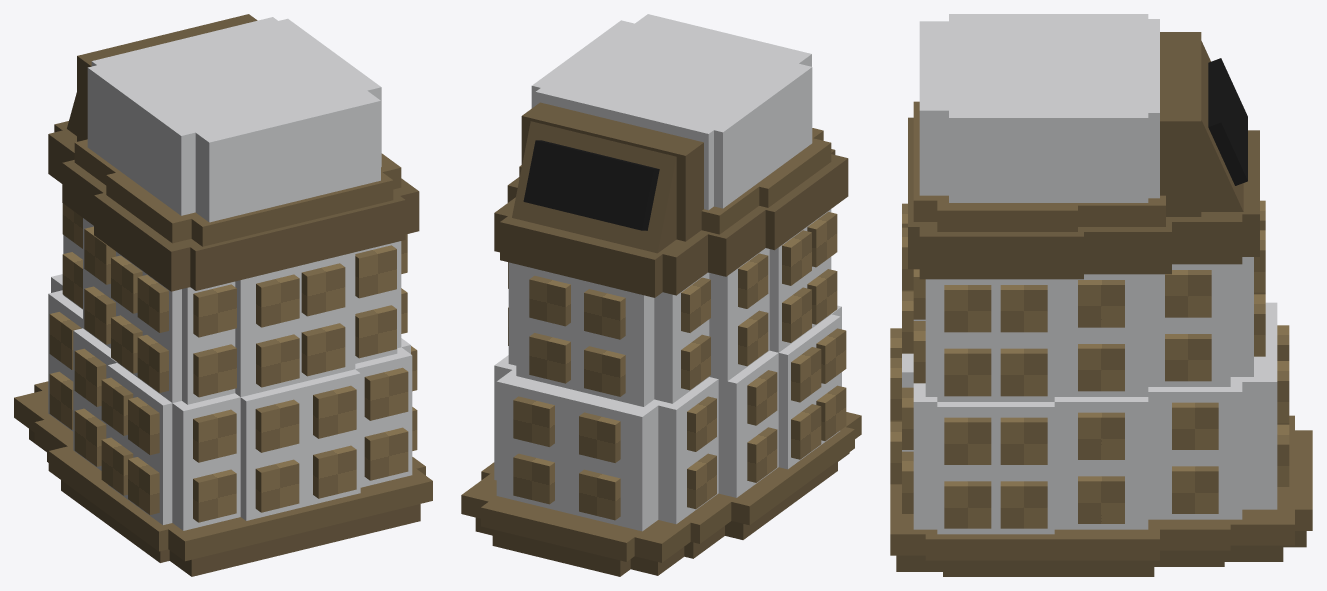
File: swd_base.obj
3 views of the same model, side by side, from view 1: azimuth 30°, elevation 25°; view 2: azimuth 150°, elevation 25°; view 3: azimuth 270°, elevation 25° (orthographic). The views are drawn at different scales.
Parts seen in each view (by area): view 1: gunbox5, gunbox6, gunbox7, skirt15, skirt17, base6, skirt18, brase10, brase9, base7, base2, skirt16 (+44 smaller); view 2: gunbox5, skirt1, gunbox6, gunbox4, skirt2, gunbox3, brase, gunbox7, base, skirt11, skirt7, base3 (+36 smaller); view 3: gunbox5, gunbox6, gunbox7, skirt9, skirt13, skirt5, skirt14, base2, base3, skirt1, brase4, skirt6 (+43 smaller).
Boxes of the visible parts, x1=… form: gunbox5: x1=77, y1=14, x2=401, y2=243; gunbox6: x1=126, y1=47, x2=393, y2=246; gunbox7: x1=91, y1=17, x2=380, y2=222; skirt15: x1=172, y1=347, x2=412, y2=530; skirt17: x1=240, y1=369, x2=360, y2=520; base6: x1=168, y1=466, x2=432, y2=561; skirt18: x1=235, y1=252, x2=355, y2=396; brase10: x1=190, y1=192, x2=405, y2=270; brase9: x1=190, y1=220, x2=405, y2=290; base7: x1=169, y1=504, x2=420, y2=576; base2: x1=48, y1=445, x2=425, y2=551; skirt16: x1=182, y1=242, x2=397, y2=404; gunbox5: x1=521, y1=47, x2=831, y2=241; skirt1: x1=496, y1=367, x2=662, y2=531; gunbox6: x1=569, y1=20, x2=823, y2=181; gunbox4: x1=519, y1=140, x2=771, y2=234; skirt2: x1=516, y1=264, x2=654, y2=406; gunbox3: x1=512, y1=121, x2=676, y2=253; brase: x1=500, y1=213, x2=675, y2=297; gunbox7: x1=535, y1=14, x2=811, y2=210; base: x1=481, y1=502, x2=641, y2=576; skirt11: x1=718, y1=350, x2=778, y2=497; skirt7: x1=658, y1=377, x2=718, y2=524; base3: x1=461, y1=461, x2=837, y2=562; gunbox5: x1=937, y1=14, x2=1201, y2=231; gunbox6: x1=913, y1=14, x2=1066, y2=221; gunbox7: x1=919, y1=19, x2=1159, y2=198; skirt9: x1=1148, y1=382, x2=1242, y2=519; skirt13: x1=1054, y1=397, x2=1148, y2=529; skirt5: x1=937, y1=402, x2=1054, y2=534; skirt14: x1=1054, y1=274, x2=1148, y2=396; base2: x1=925, y1=519, x2=1159, y2=560; base3: x1=943, y1=415, x2=1294, y2=576; skirt1: x1=1230, y1=302, x2=1277, y2=509; brase4: x1=919, y1=222, x2=1171, y2=279; skirt6: x1=937, y1=279, x2=1054, y2=401.
Size of the model in its own units: 14 by 21 by 18.
